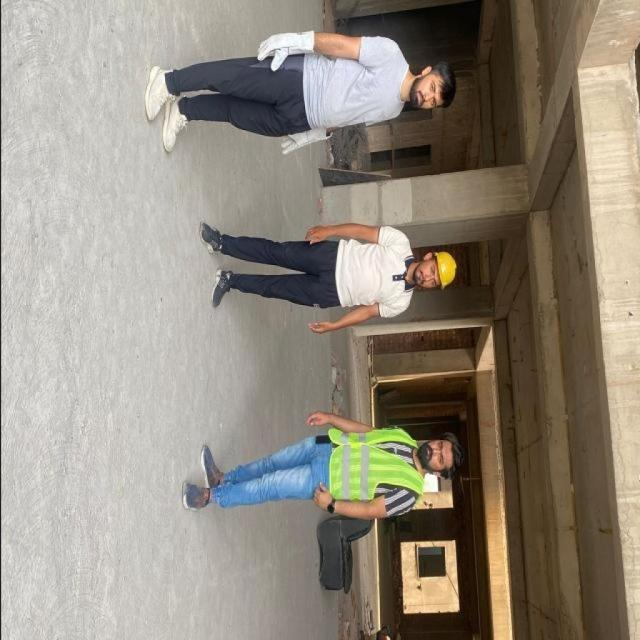Gloves-Detection: (258, 24, 313, 62), (278, 134, 334, 153)
